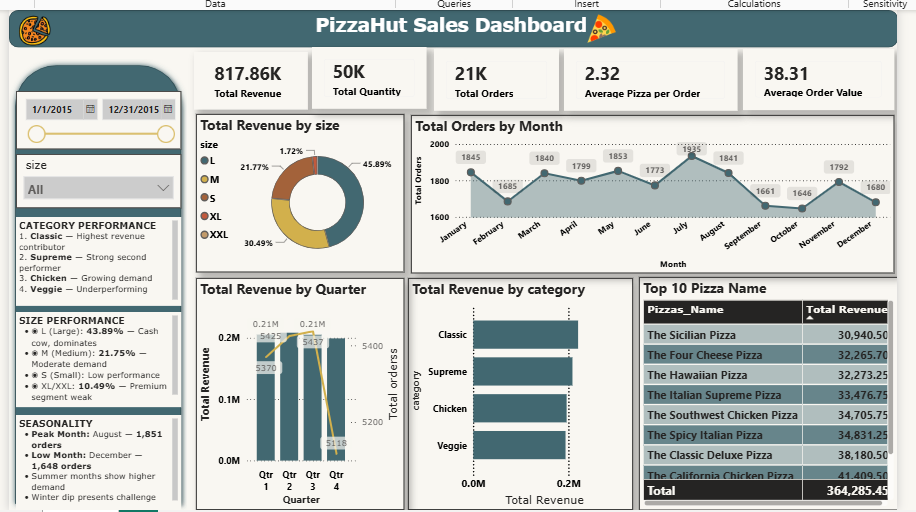

Layout of this report page (visuals, bound fields, positions):
{"tool":"powerbi","page":{"name":"home","canvas":[1280,720],"ordinal":0},"visuals":[{"type":"barChart","fields":{"Category":["pizza_types.category"],"Y":["order_details.Total Revenue"]},"box":[575.1,386.1,323.8,333.9],"z":0},{"type":"cardVisual","fields":{"Data":["order_details.Total Revenue"]},"box":[266.5,60.7,163.6,82.6],"z":1000},{"type":"tableEx","title":"Top 10 Pizza Name","fields":{"Values":["pizza_types.name","order_details.Total Revenue"]},"box":[907.3,384.4,372.7,335.6],"z":2000},{"type":"donutChart","fields":{"Y":["order_details.Total Revenue"],"Category":["pizzas.size"]},"box":[269.8,150.1,300.2,227.7],"z":3000},{"type":"lineChart","fields":{"Category":["orders.date.Variation.Date Hierarchy.Year","orders.date.Variation.Date Hierarchy.Quarter","orders.date.Variation.Date Hierarchy.Month","orders.date.Variation.Date Hierarchy.Day"],"Y":["order_details.Total Orders"]},"box":[578.4,151.8,696.5,227.7],"z":4000},{"type":"shape","box":[0,0,1280,54],"z":5000},{"type":"lineStackedColumnComboChart","title":"Total Revenue by Quarter","fields":{"Category":["orders.date.Variation.Date Hierarchy.Year","orders.date.Variation.Date Hierarchy.Quarter","orders.date.Variation.Date Hierarchy.Month","orders.date.Variation.Date Hierarchy.Day"],"Y":["order_details.Total Revenue"],"Y2":["order_details.Total orderss"]},"box":[269.8,386.2,300.2,333.9],"z":6000},{"type":"shape","box":[0,70.8,256.3,649.3],"z":7000},{"type":"cardVisual","fields":{"Data":["order_details.Total Quantity"]},"box":[436.8,54,165.3,89.4],"z":8000},{"type":"cardVisual","fields":{"Data":["order_details.Total Orders"]},"box":[612.2,55.7,180.4,89.4],"z":9000},{"type":"cardVisual","fields":{"Data":["order_details.Average Pizza per Order"]},"box":[799.4,55.7,249.6,89.4],"z":10000},{"type":"cardVisual","fields":{"Data":["order_details.Average Order Value"]},"box":[1057.4,55.7,217.5,87.7],"z":11000},{"type":"slicer","fields":{"Values":["orders.date"]},"box":[10.1,116.4,237.8,84.3],"z":12000},{"type":"slicer","fields":{"Values":["pizzas.size"]},"box":[10.1,207.4,237.8,77.6],"z":13000},{"type":"textbox","box":[436.8,0,431.7,54],"z":14000},{"type":"image","box":[737.3,0,108,53.3],"z":15000},{"type":"image","box":[0,0,75.9,54],"z":16000},{"type":"textbox","box":[10.1,435.1,237.8,136.6],"z":17000},{"type":"textbox","box":[10.1,583.5,237.8,136.6],"z":18000},{"type":"textbox","box":[10.1,298.5,237.8,128.2],"z":19000}]}

Visuals, with their boxes in screenshot pixels (x1, y1, x2, y2):
barChart - pizza_types.category x order_details.Total Revenue: (409, 278, 636, 511)
cardVisual - order_details.Total Revenue: (192, 50, 307, 108)
"Top 10 Pizza Name" tableEx: (642, 277, 904, 511)
donutChart - order_details.Total Revenue x pizzas.size: (194, 113, 405, 273)
lineChart - orders.date.Variation.Date Hierarchy.Year x orders.date.Variation.Date Hierarchy.Quarter: (411, 114, 900, 274)
shape: (5, 7, 904, 45)
"Total Revenue by Quarter" lineStackedColumnComboChart: (194, 278, 405, 511)
shape: (5, 57, 185, 511)
cardVisual - order_details.Total Quantity: (312, 45, 428, 108)
cardVisual - order_details.Total Orders: (435, 46, 562, 109)
cardVisual - order_details.Average Pizza per Order: (566, 46, 742, 109)
cardVisual - order_details.Average Order Value: (748, 46, 900, 108)
slicer - orders.date: (12, 89, 179, 148)
slicer - pizzas.size: (12, 153, 179, 207)
textbox: (312, 7, 615, 45)
image: (523, 7, 599, 45)
image: (5, 7, 58, 45)
textbox: (12, 313, 179, 409)
textbox: (12, 417, 179, 511)
textbox: (12, 217, 179, 307)
